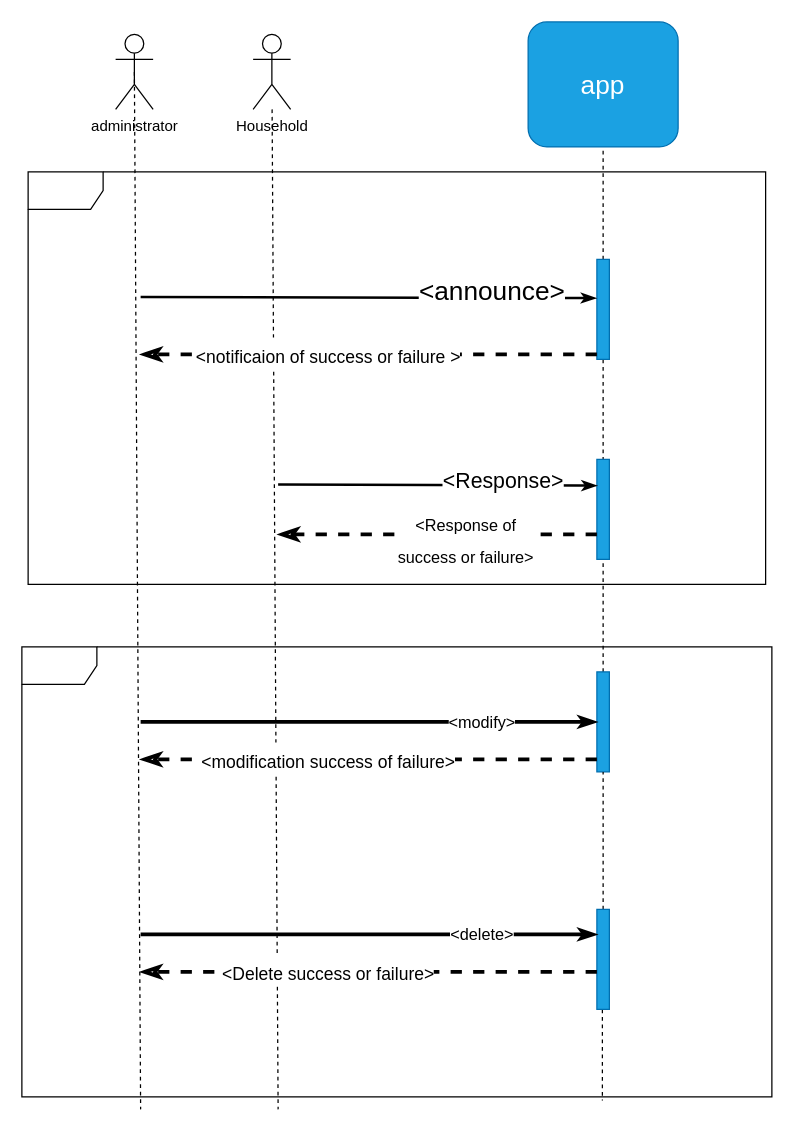
Some shapes in this 794 by 1133 pixel diagram are drawn without their labels. Each missing label, with the centre of its shape:
add: point 396,377
modity and deledt: point 396,871
